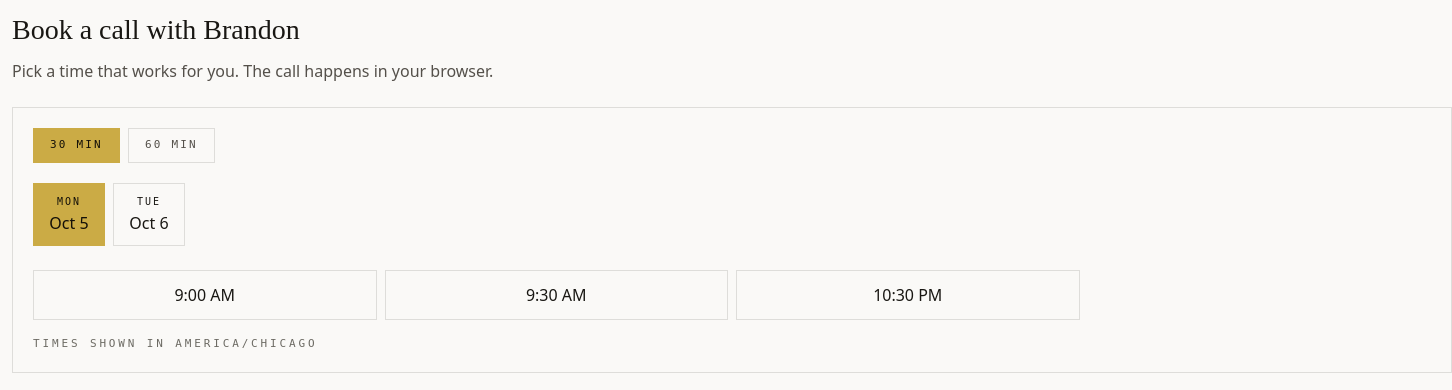
Test: BookingWidget › makes one slots request per length, however many days are picked
The image size is (1452, 390).
expect the button "Mon Oct 5" is shown: met, box [33,182,105,246]
Click the button "Tue Oct 6" at (149, 214), box [113,182,185,246]
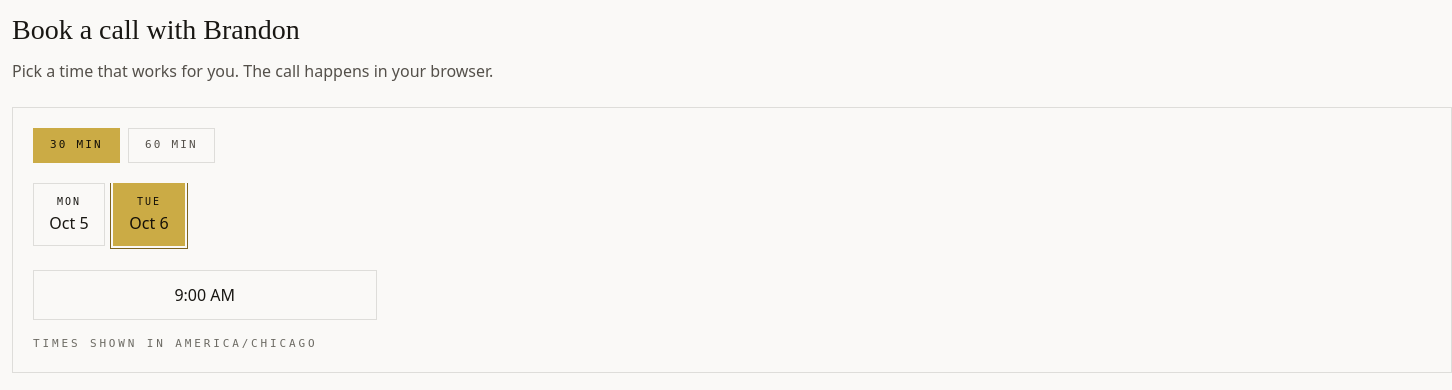
Click the button "Mon Oct 5" at (69, 214), box [33,182,105,246]
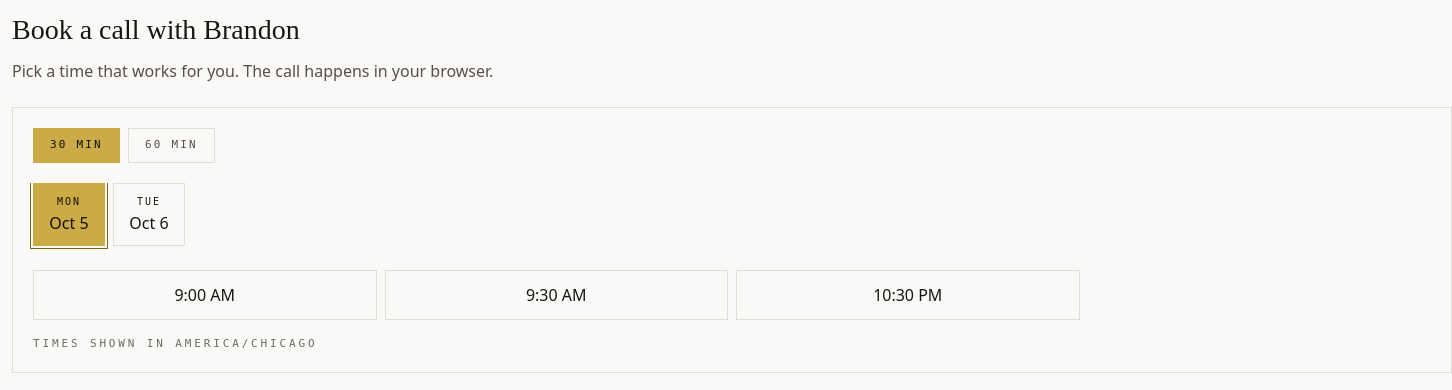
Click the button "60 min" at (172, 145), box [128,128,215,162]
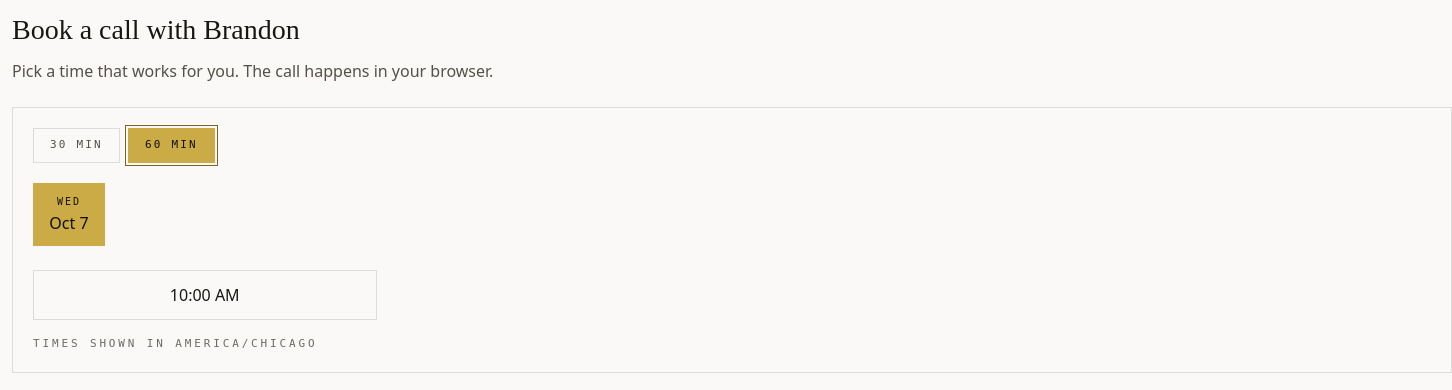
expect the button "Wed Oct 7" is shown: met, box [33,182,105,246]
Click the button "30 min" at (76, 145), box [33,128,120,162]
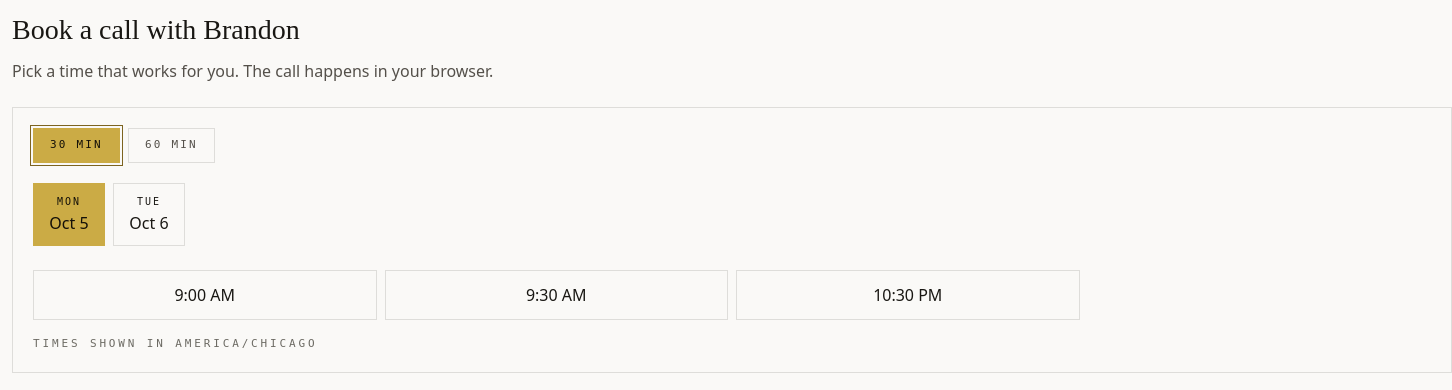
expect the button "Mon Oct 5" is shown: met, box [33,182,105,246]
